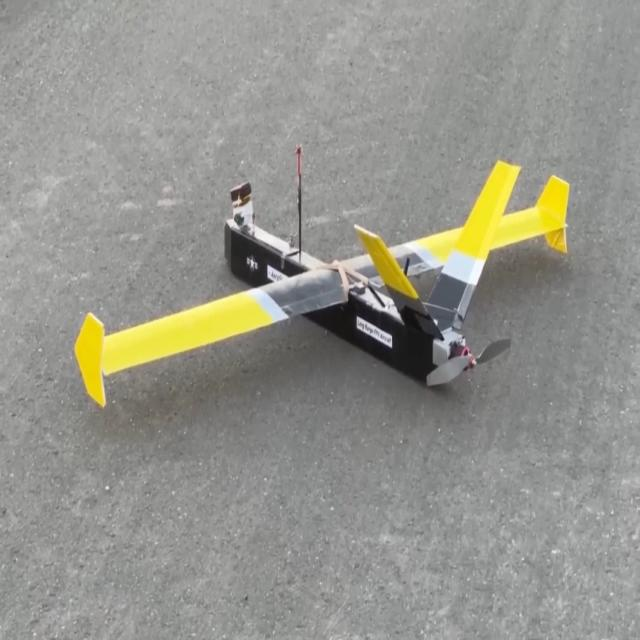iha: (74, 160, 569, 408)
